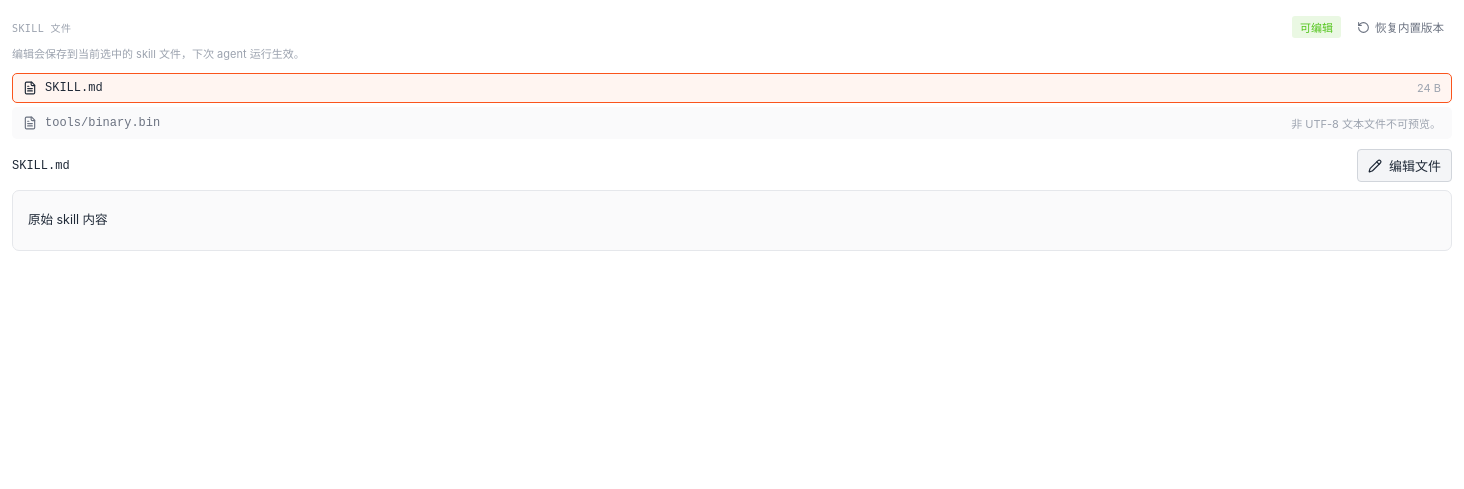
Test: SkillFilePreview › keeps draft content when save fails
Expected: the text "原始 skill 内容" is shown, [28,212,108,227]
Step 1. Click the button "编辑文件" → [1404, 166], box [1357,149,1452,182]
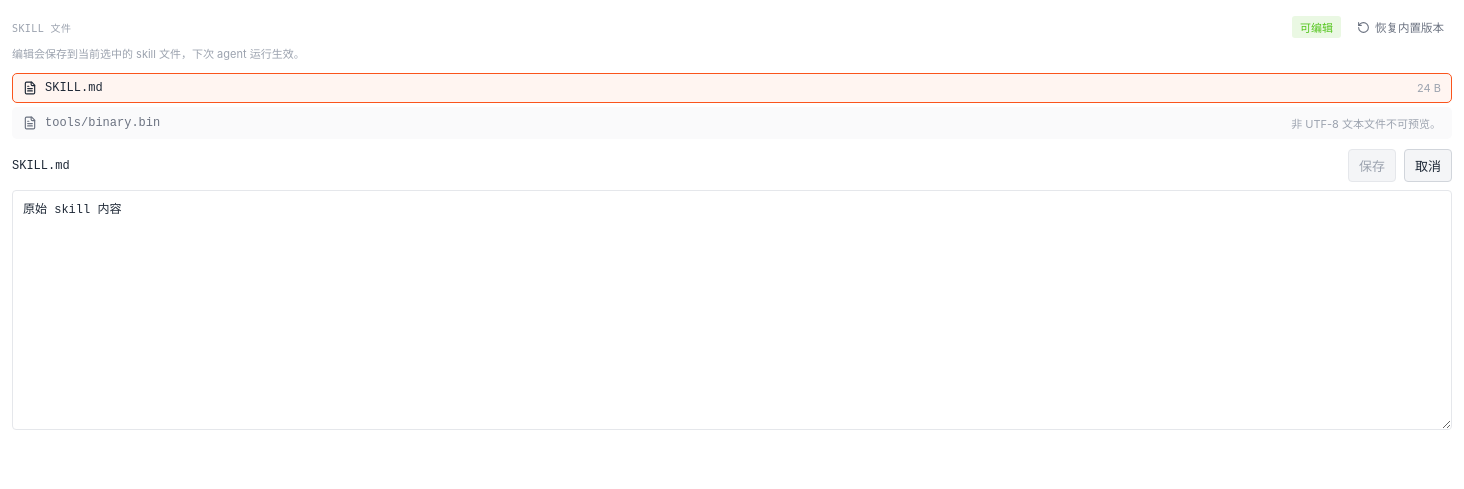
Step 2. Clear the text box named "Skill 文件内容" → [732, 310], box [12,190,1452,430]
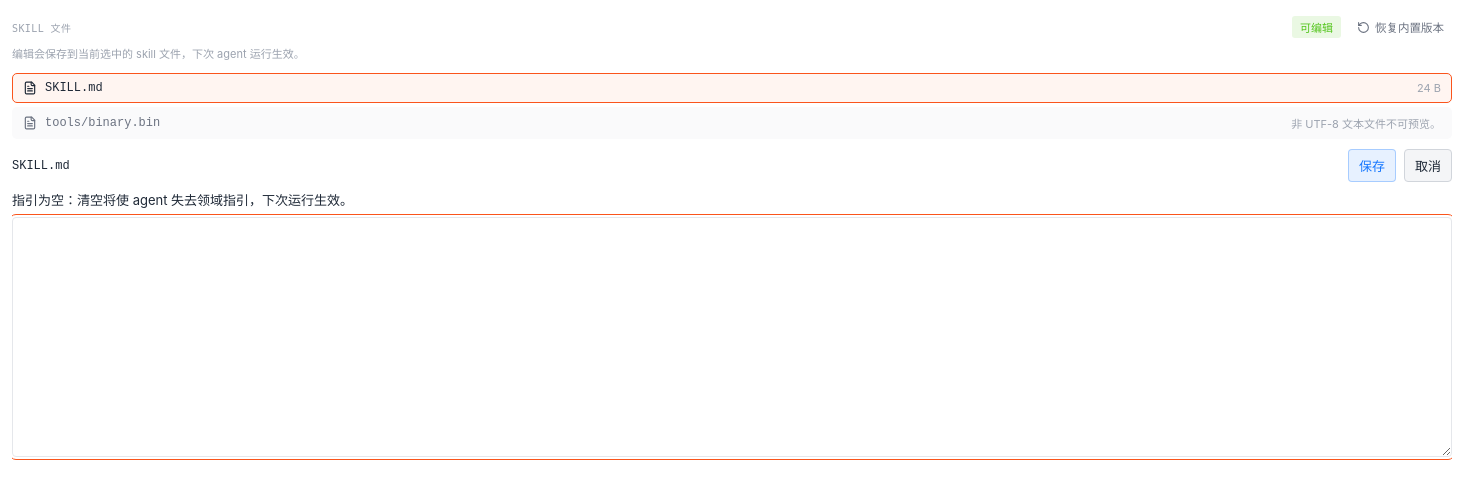
Step 3. Type "未保存内容" into the text box named "Skill 文件内容" → [732, 337], box [12,217,1452,457]
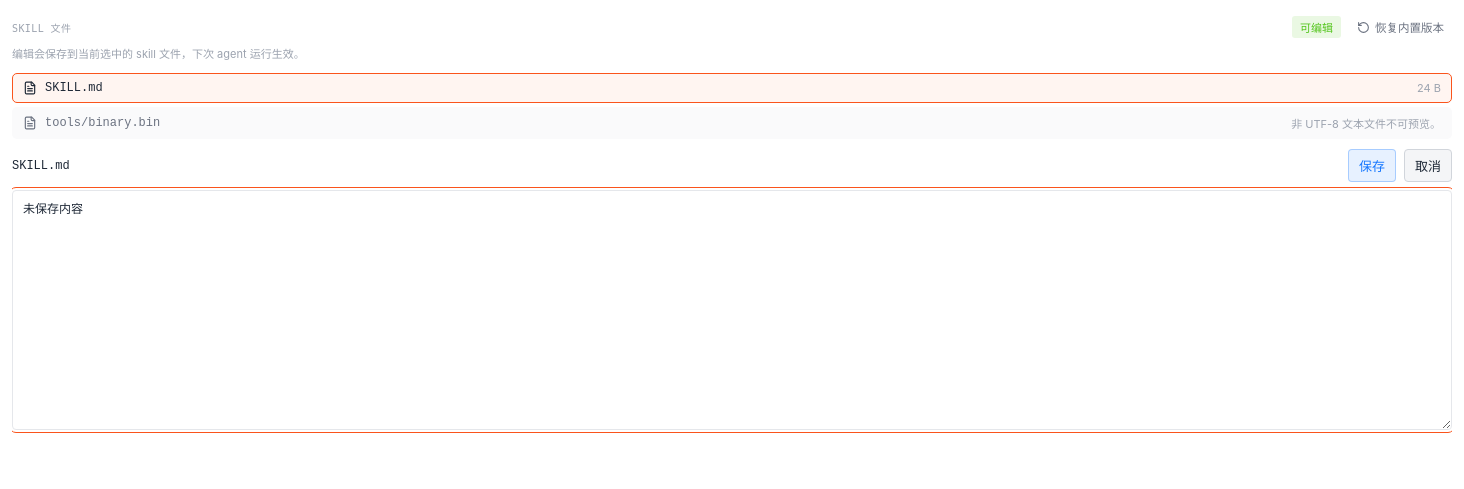
Step 4. Click the button "保存" → [1372, 166], box [1348,149,1396,182]
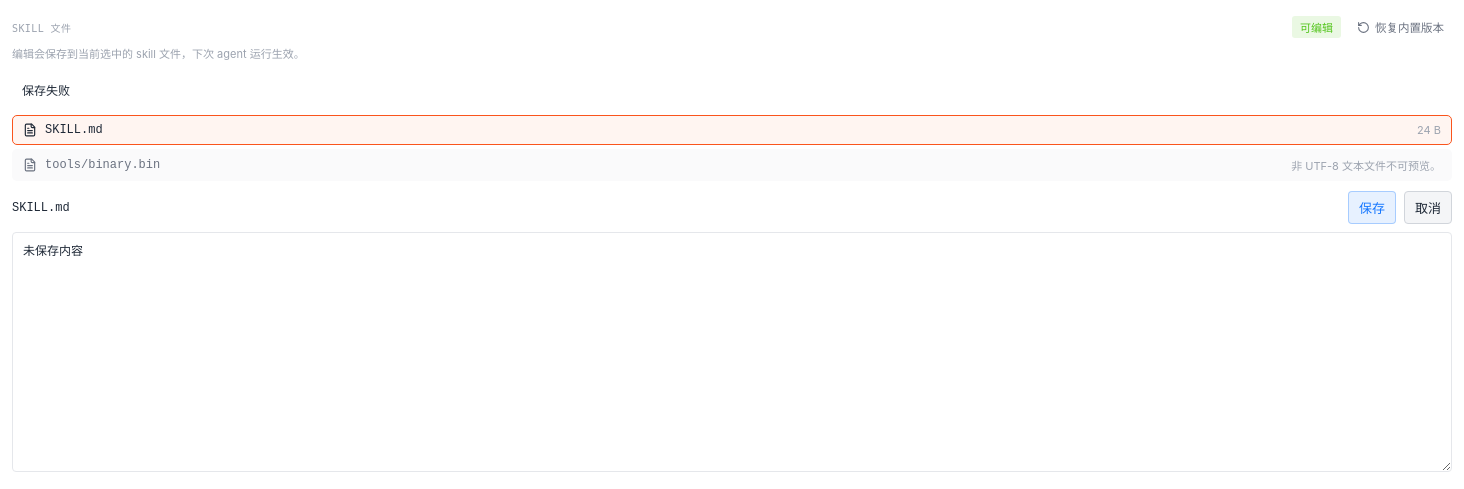
Expected: the text "保存失败" is shown, [22,83,70,98]
